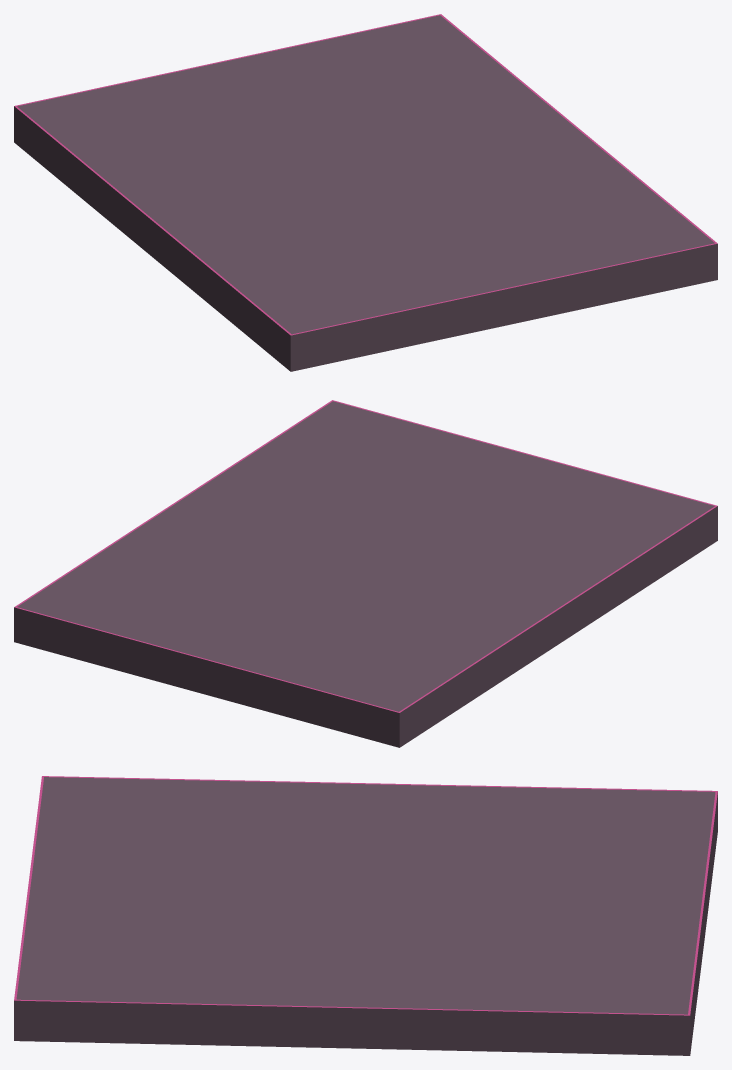
File: way-205658307.glb
3 views of the same model, one above another, from view 1: azimuth 30°, elevation 25°; view 2: azimuth 150°, elevation 25°; view 3: azimuth 270°, elevation 25° (orthographic). The views are drawn at different scales.
Parts seen in each view (by area): view 1: way-205658307; view 2: way-205658307; view 3: way-205658307.
Part boxes in pixels (x1,y1,x2,y2): way-205658307: (14, 14, 717, 371); way-205658307: (14, 400, 717, 747); way-205658307: (14, 776, 717, 1055).
Bounding box in the file's own units: 38.2 × 3 × 47.43.
